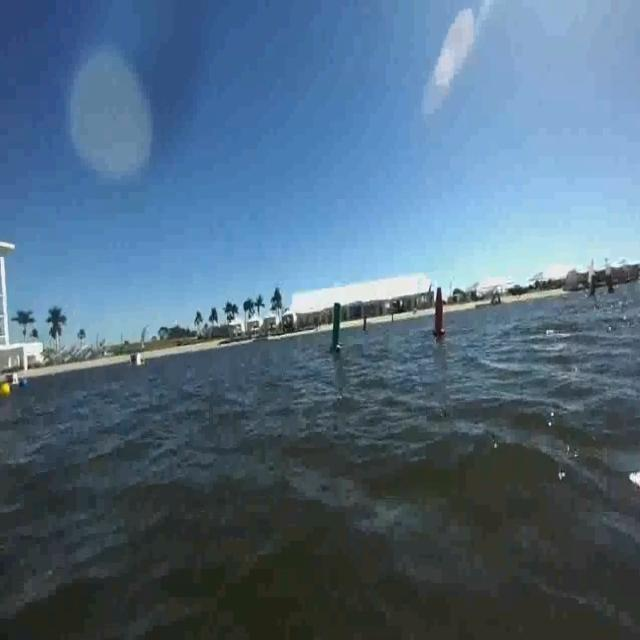green-column-buoy: (331, 301, 346, 354)
red-column-buoy: (431, 286, 447, 338)
yellow-duck: (0, 380, 12, 400)
